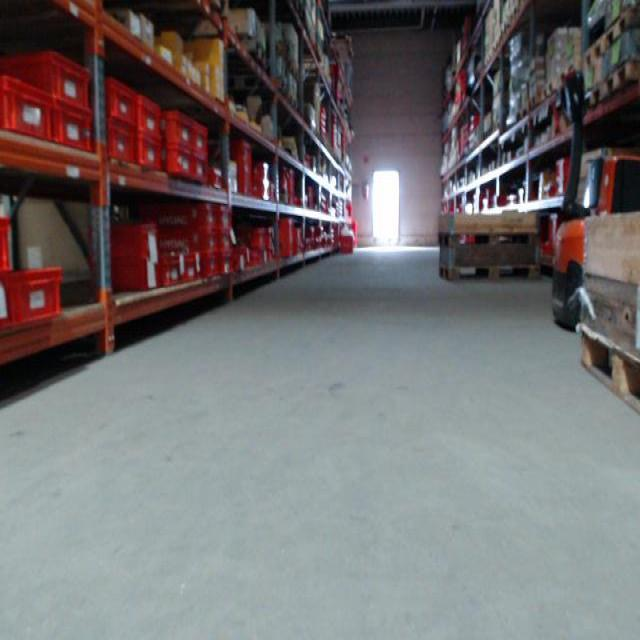pallet: (574, 329, 640, 420), (438, 263, 541, 284), (603, 7, 638, 55), (435, 231, 539, 247), (606, 59, 639, 99), (583, 35, 603, 74), (584, 79, 606, 113), (541, 76, 556, 102), (516, 106, 528, 124)
pallet_truck: (541, 66, 639, 337)
small_load_carrier: (2, 51, 95, 111), (15, 255, 62, 324), (3, 77, 52, 142), (126, 224, 219, 255), (47, 104, 96, 160), (92, 219, 158, 259), (96, 77, 139, 130), (140, 200, 220, 228), (127, 87, 166, 142), (96, 259, 160, 291), (107, 123, 138, 173), (131, 136, 162, 178), (164, 108, 194, 150), (161, 150, 190, 187), (158, 253, 184, 293), (2, 276, 17, 338), (188, 119, 212, 157), (1, 216, 16, 275), (175, 253, 201, 281), (556, 155, 579, 181), (191, 158, 212, 186), (206, 161, 230, 182), (199, 255, 221, 276), (215, 234, 236, 256), (215, 207, 231, 232), (217, 257, 233, 276), (555, 181, 568, 198)
